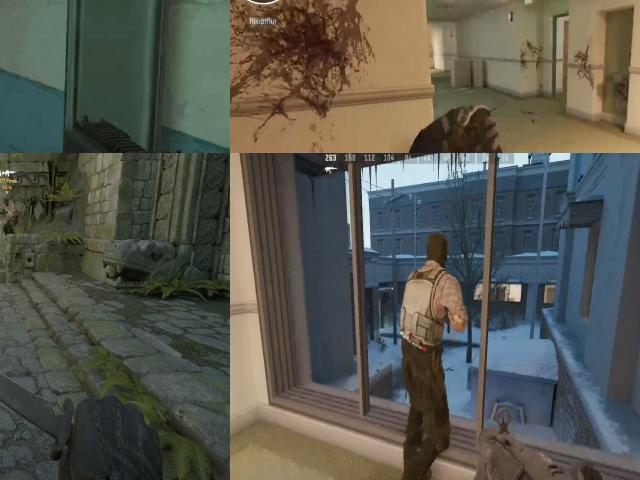Dead: (395, 93, 509, 153)
T: (399, 227, 469, 352), (0, 195, 22, 241)
T-Head: (424, 233, 453, 273), (2, 196, 11, 208)
